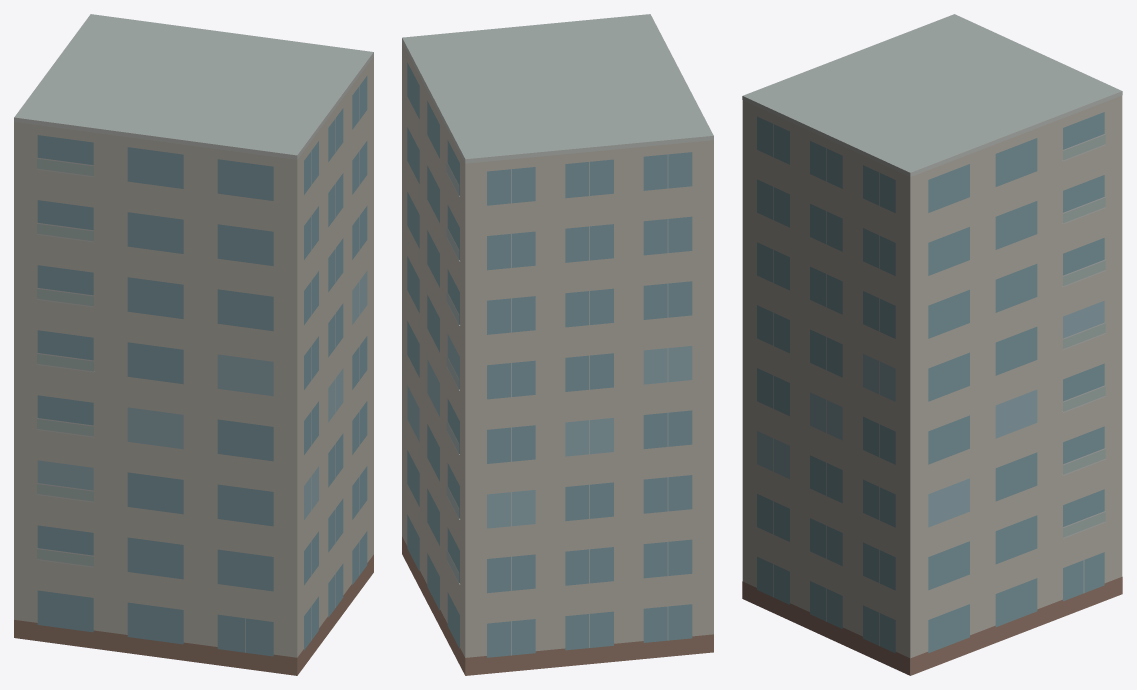
The model's file is survey-upis-32998033.glb.
The picture shows the model from 3 angles, left to right: view 1: azimuth 30°, elevation 25°; view 2: azimuth 150°, elevation 25°; view 3: azimuth 270°, elevation 25°; orthographic projection. The views are drawn at different scales.
Parts seen in each view (by area): view 1: survey-upis-32998033.tmp; view 2: survey-upis-32998033.tmp; view 3: survey-upis-32998033.tmp.
Part boxes in pixels (box(x1,y1,x2,y2)): survey-upis-32998033.tmp: box(14, 14, 373, 675); survey-upis-32998033.tmp: box(402, 14, 713, 675); survey-upis-32998033.tmp: box(742, 14, 1122, 675).
Size of the model in its own units: 19.65 by 29 by 19.86.
